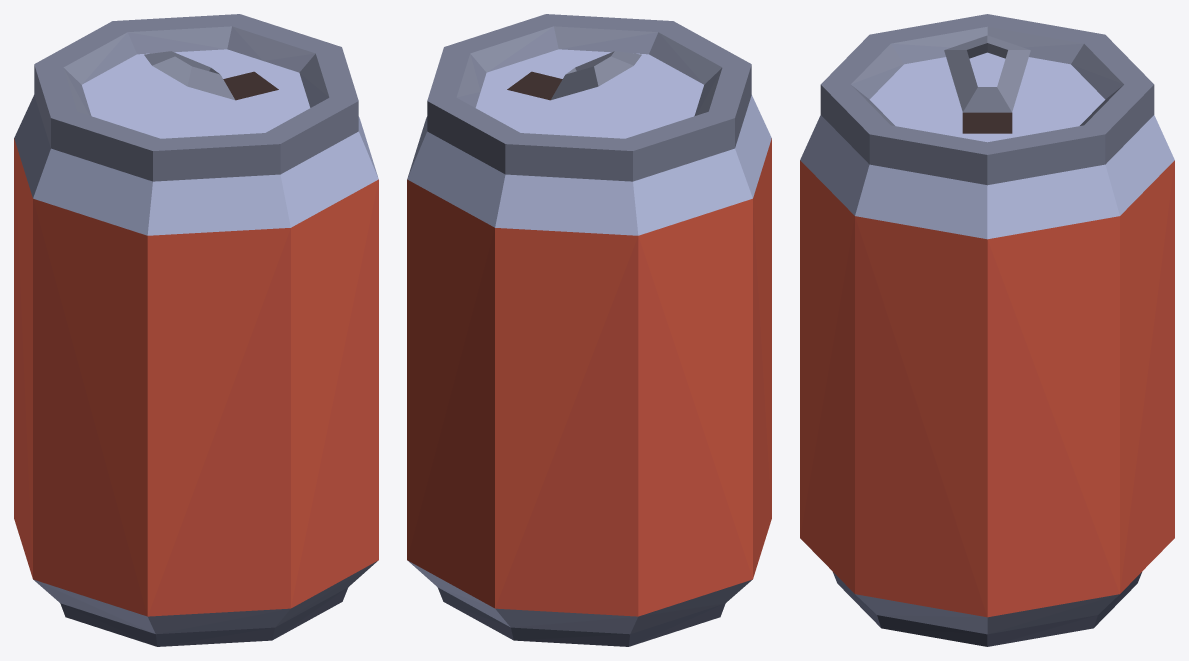
Rendered from can-of-pop.glb.
3 views of the same model, side by side, from view 1: azimuth 30°, elevation 25°; view 2: azimuth 150°, elevation 25°; view 3: azimuth 270°, elevation 25° (orthographic).
Visible parts, largest first — view 1: can_of_pop; view 2: can_of_pop; view 3: can_of_pop.
Boxes of the visible parts, left/top/right/bottom form: can_of_pop: left=14, top=14, right=378, bottom=646; can_of_pop: left=407, top=14, right=771, bottom=646; can_of_pop: left=800, top=14, right=1174, bottom=646.
Bounding box in the file's own units: 0.0769 × 0.12 × 0.0769.
